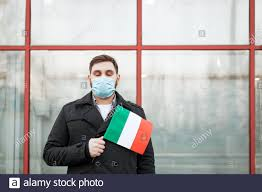masked: (85, 54, 121, 99)
